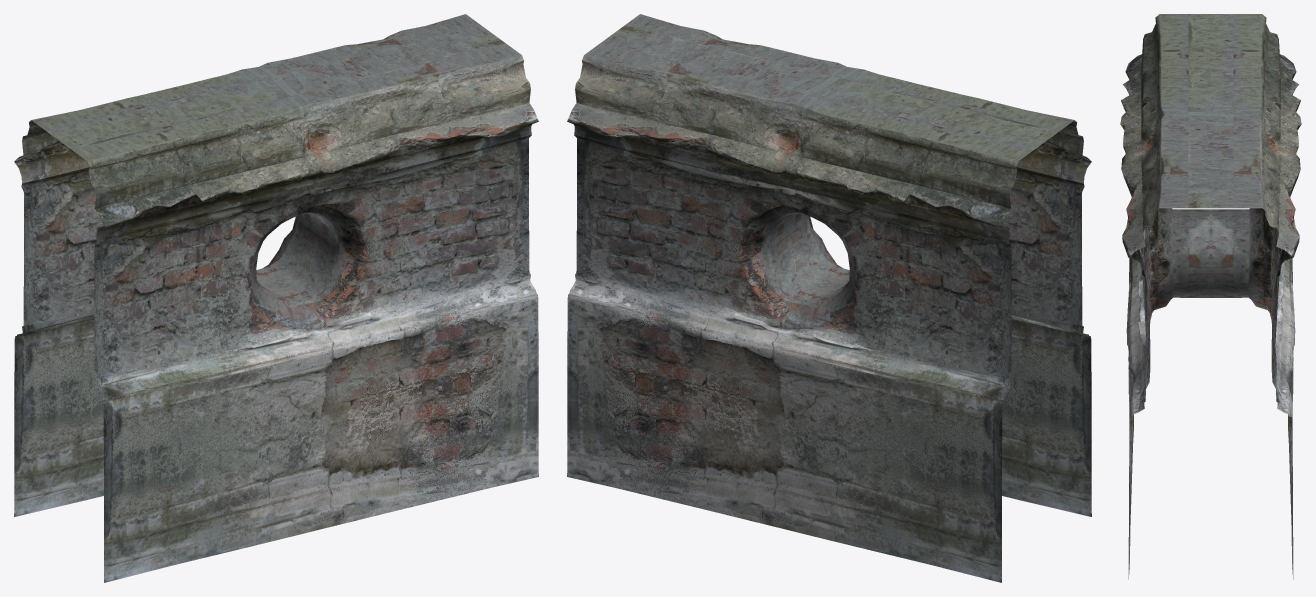
File: SM_ChapelWall_04_03.fbx
3 views of the same model, side by side, from view 1: azimuth 30°, elevation 25°; view 2: azimuth 150°, elevation 25°; view 3: azimuth 270°, elevation 25° (orthographic). The views are drawn at different scales.
Parts seen in each view (by area): view 1: sm_ChapelWall_04_03_LOD0; view 2: sm_ChapelWall_04_03_LOD0; view 3: sm_ChapelWall_04_03_LOD0.
Boxes of the visible parts, x1,y1,x2,y2 form: sm_ChapelWall_04_03_LOD0: [14, 14, 538, 582]; sm_ChapelWall_04_03_LOD0: [567, 14, 1091, 582]; sm_ChapelWall_04_03_LOD0: [1120, 14, 1301, 579].
Size of the model in its own units: 98.68 by 250 by 226.
